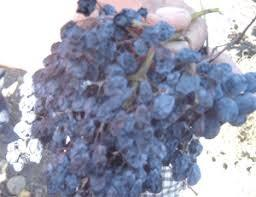Grape Overripe: (32, 0, 255, 196)
